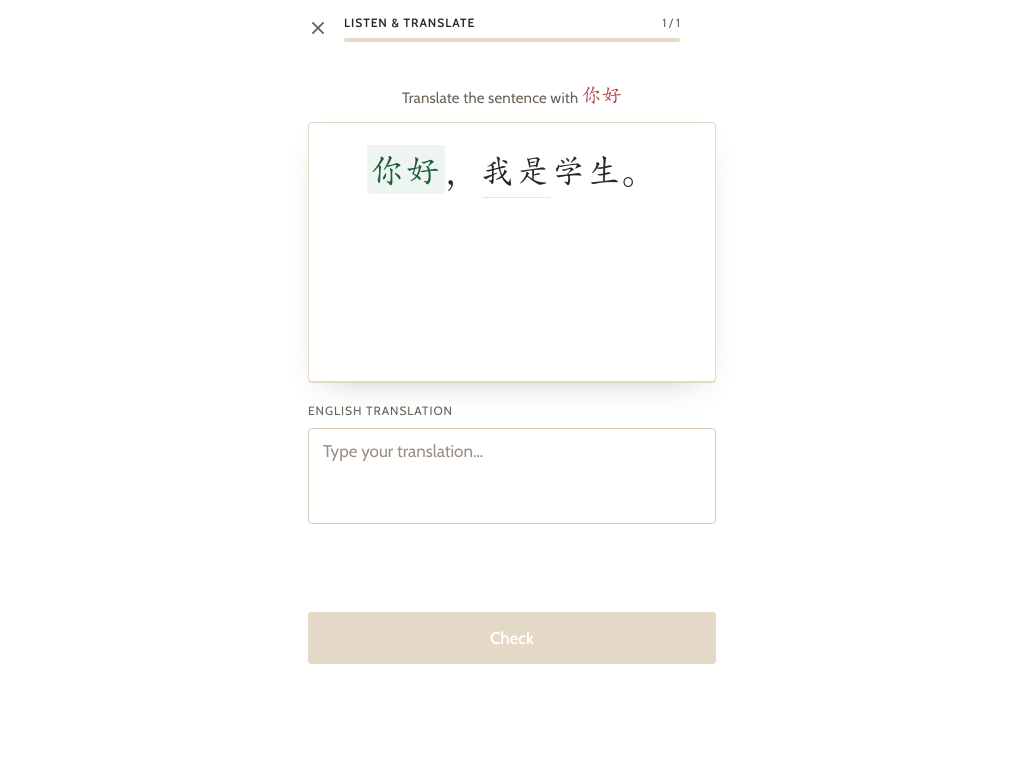
Test: SentenceRead — word popup rendering › shows "Add to list" button after opening popup for a word not yet in addedWords
The image size is (1024, 768).
Note: Click the word to open the popup (sets visibility:visible via onShowPopup)
Click the button labelled "我是".
click(516, 171)  # box [481,143,551,198]
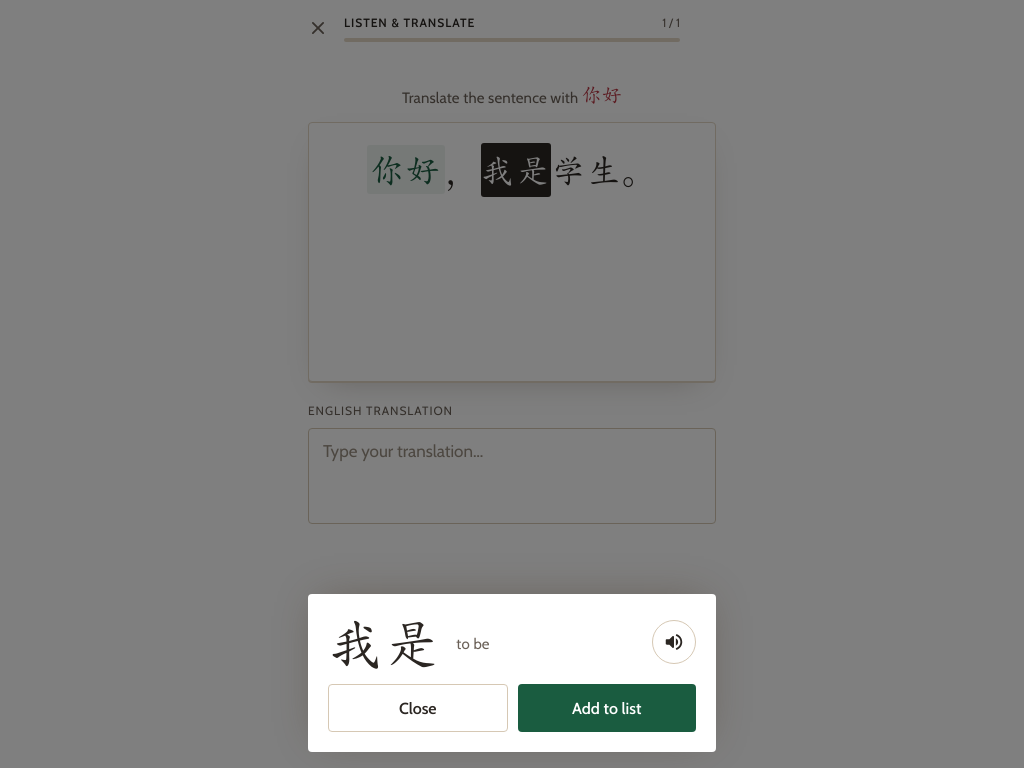
Result: the button "Add to list" is shown at [518,684,696,732]
